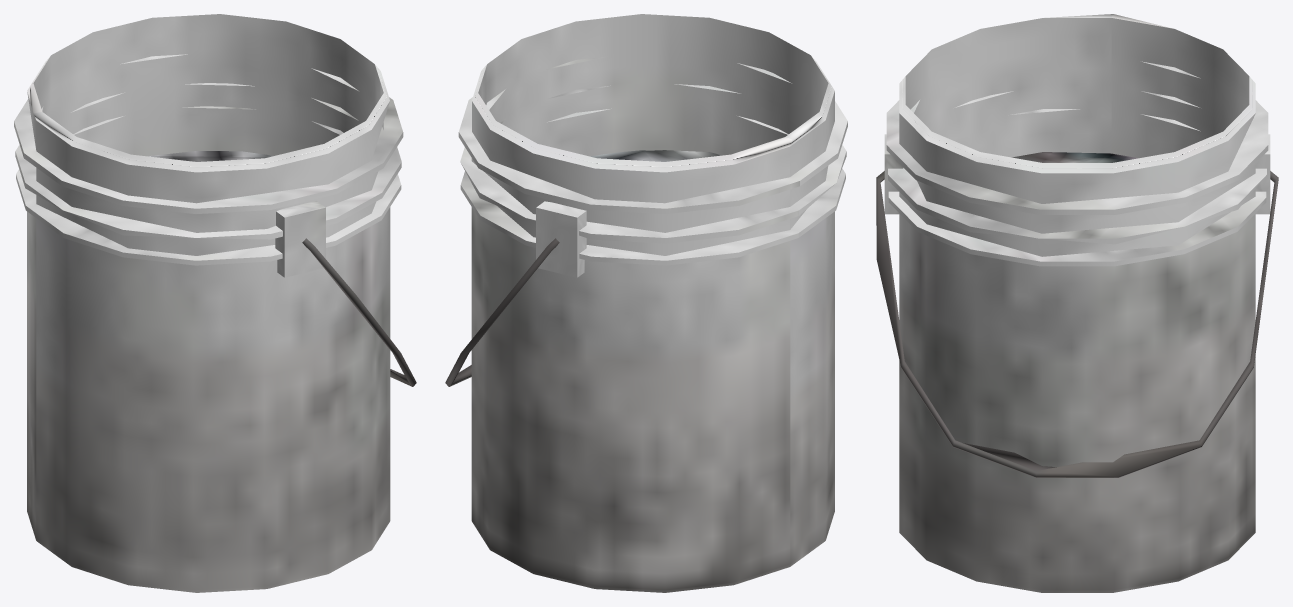
The model's file is cove-bucket.lod0.glb.
The picture shows the model from 3 angles, left to right: view 1: azimuth 30°, elevation 25°; view 2: azimuth 150°, elevation 25°; view 3: azimuth 270°, elevation 25°; orthographic projection.
Visible parts, largest first — view 1: Object_10; view 2: Object_10; view 3: Object_10.
Boxes of the visible parts, x1=… form: Object_10: x1=14, y1=14, x2=416, y2=592; Object_10: x1=445, y1=14, x2=847, y2=592; Object_10: x1=876, y1=14, x2=1278, y2=592.
Size of the model in its own units: 0.3399 by 0.42 by 0.3586.
1 material, 1 textured.
